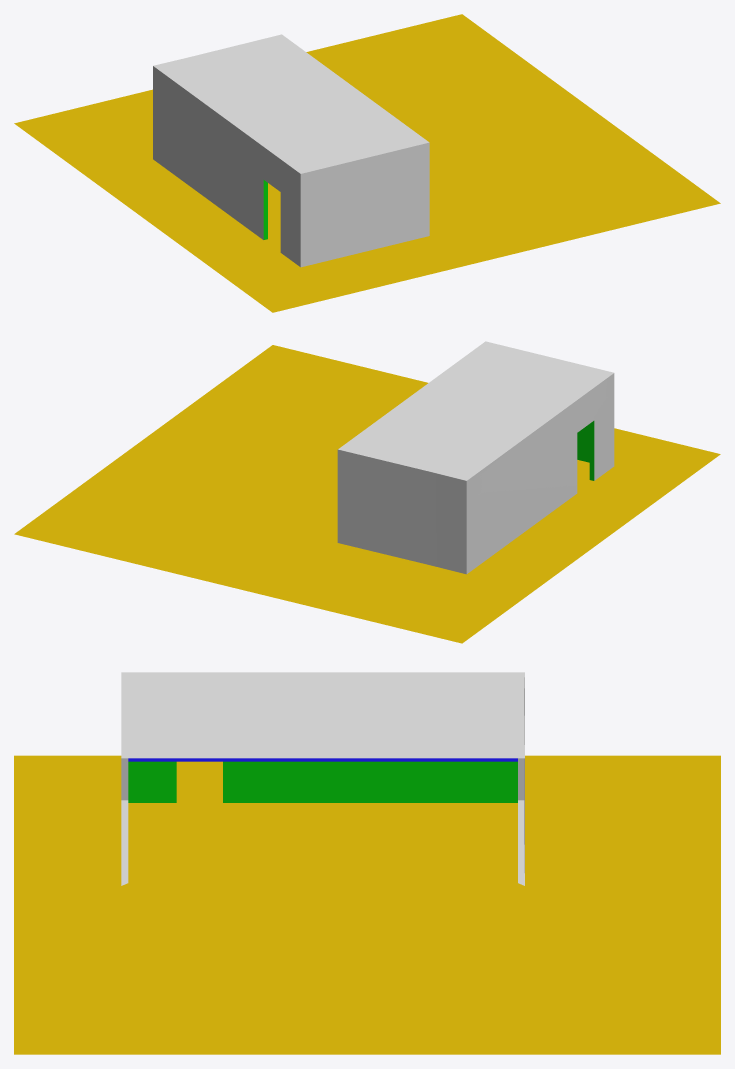
File: HABITACION.fbx
3 views of the same model, one above another, from view 1: azimuth 30°, elevation 25°; view 2: azimuth 150°, elevation 25°; view 3: azimuth 270°, elevation 25° (orthographic). The views are drawn at different scales.
Visible parts, largest first — view 1: Piso, Cuarto; view 2: Piso, Cuarto; view 3: Piso, Cuarto.
Boxes of the visible parts, x1,y1,x2,y2 form: Piso: [14, 14, 720, 312]; Cuarto: [153, 34, 429, 267]; Piso: [14, 345, 720, 643]; Cuarto: [337, 341, 614, 574]; Piso: [14, 755, 720, 1054]; Cuarto: [121, 672, 524, 885].
Bounding box in the file's own units: 200 × 39.98 × 200.
